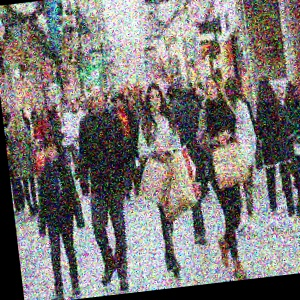zara: (105, 75, 275, 286)
